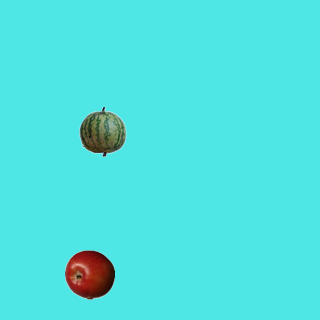Apple Braeburn: (64, 249, 114, 299)
Watermelon: (77, 106, 127, 156)
